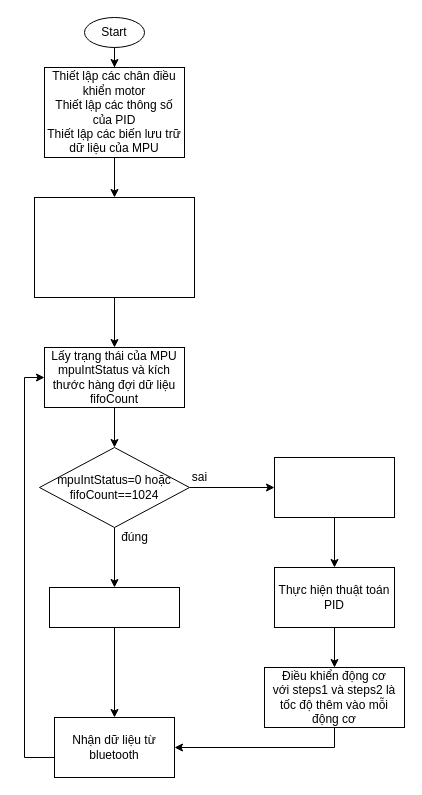
Some shapes in this 422 by 795 pixel diagram are drawn without their labels. Each missing label, with the box of its shape:
Lấy dữ liệu từ hàng đợi: (274, 456, 394, 518)
Thiết lập I2C Khởi tạo Serial, Serial1 Thiết lập MPU Khởi tạo PID: (34, 196, 194, 298)
Xóa hàng đợi dữ liệu: (48, 586, 180, 628)
